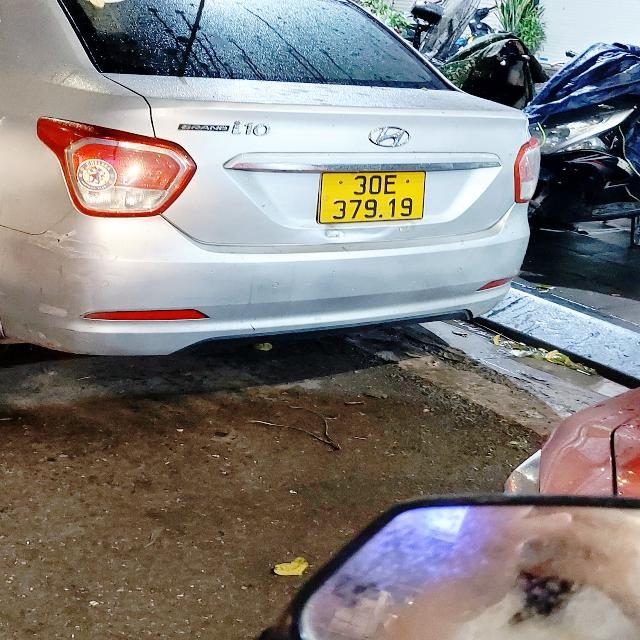license_plate: (318, 171, 432, 228)
